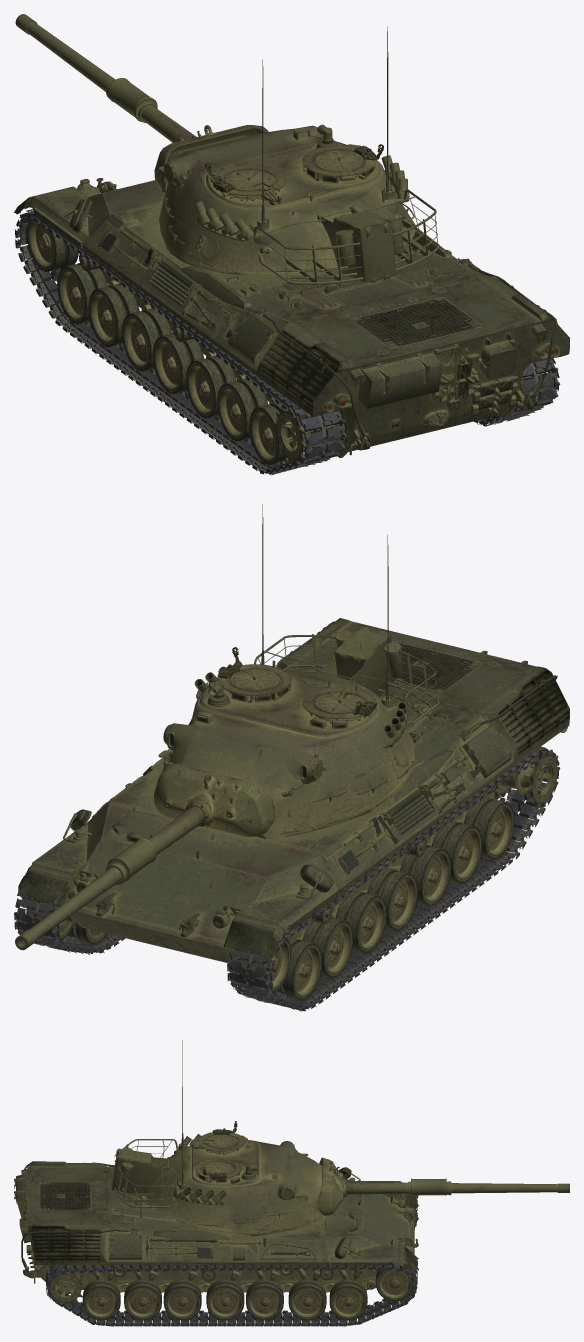
The model's file is leo1.glb.
3 views of the same model, one above another, from view 1: azimuth 30°, elevation 25°; view 2: azimuth 150°, elevation 25°; view 3: azimuth 270°, elevation 25° (orthographic). The views are drawn at different scales.
Parts seen in each view (by area): view 1: V_leo1__Body_3, V_leo1__Turret_1, V_leo1__Body_6, V_leo1__Gun_1, V_leo1__Body_4, V_leo1__W06_1, V_leo1__W02_1, V_leo1__W05_1, V_leo1__W03_1, V_leo1__W04_1, V_leo1__W07_1, V_leo1__W01_1 (+3 smaller); view 2: V_leo1__Body_3, V_leo1__Turret_1, V_leo1__Gun_1, V_leo1__Body_6, V_leo1__Body_4, V_leo1__W05_1, V_leo1__W01_1, V_leo1__W04_1, V_leo1__W02_1, V_leo1__W03_1, V_leo1__W06_1, V_leo1__W07_1 (+4 smaller); view 3: V_leo1__Body_3, V_leo1__Turret_1, V_leo1__Body_7, V_leo1__Gun_1, V_leo1__Body_5, V_leo1__W15_1, V_leo1__W17_1, V_leo1__W18_1, V_leo1__W14_1, V_leo1__W19_1, V_leo1__W16_1, V_leo1__W20_1 (+3 smaller).
Part boxes in pixels (x1=…): V_leo1__Body_3: x1=14, y1=178, x2=569, y2=457; V_leo1__Turret_1: x1=159, y1=26, x2=439, y2=285; V_leo1__Body_6: x1=17, y1=209, x2=344, y2=475; V_leo1__Gun_1: x1=15, y1=14, x2=268, y2=192; V_leo1__Body_4: x1=15, y1=213, x2=346, y2=474; V_leo1__W06_1: x1=88, y1=283, x2=139, y2=346; V_leo1__W02_1: x1=217, y1=378, x2=267, y2=441; V_leo1__W05_1: x1=121, y1=308, x2=172, y2=371; V_leo1__W03_1: x1=186, y1=355, x2=236, y2=418; V_leo1__W04_1: x1=152, y1=333, x2=203, y2=393; V_leo1__W07_1: x1=57, y1=263, x2=107, y2=324; V_leo1__W01_1: x1=249, y1=402, x2=296, y2=464; V_leo1__Body_3: x1=17, y1=618, x2=569, y2=964; V_leo1__Turret_1: x1=158, y1=504, x2=439, y2=839; V_leo1__Gun_1: x1=15, y1=764, x2=275, y2=950; V_leo1__Body_6: x1=230, y1=746, x2=548, y2=1011; V_leo1__Body_4: x1=227, y1=751, x2=559, y2=1009; V_leo1__W05_1: x1=335, y1=890, x2=386, y2=953; V_leo1__W01_1: x1=463, y1=797, x2=514, y2=859; V_leo1__W04_1: x1=367, y1=867, x2=417, y2=930; V_leo1__W02_1: x1=431, y1=820, x2=482, y2=883; V_leo1__W03_1: x1=400, y1=845, x2=451, y2=906; V_leo1__W06_1: x1=302, y1=917, x2=353, y2=977; V_leo1__W07_1: x1=276, y1=937, x2=322, y2=1000; V_leo1__Body_3: x1=14, y1=1161, x2=418, y2=1289; V_leo1__Turret_1: x1=111, y1=1040, x2=322, y2=1236; V_leo1__Body_7: x1=45, y1=1262, x2=417, y2=1326; V_leo1__Gun_1: x1=317, y1=1157, x2=569, y2=1215; V_leo1__Body_5: x1=47, y1=1263, x2=416, y2=1326; V_leo1__W15_1: x1=288, y1=1279, x2=326, y2=1320; V_leo1__W17_1: x1=206, y1=1279, x2=244, y2=1320; V_leo1__W18_1: x1=163, y1=1279, x2=201, y2=1320; V_leo1__W14_1: x1=329, y1=1279, x2=367, y2=1320; V_leo1__W19_1: x1=124, y1=1279, x2=161, y2=1320; V_leo1__W16_1: x1=246, y1=1279, x2=283, y2=1320; V_leo1__W20_1: x1=82, y1=1279, x2=120, y2=1319.
Bounding box in the file's own units: 9.26 × 12.15 × 26.74.
9 materials, 9 textured.
